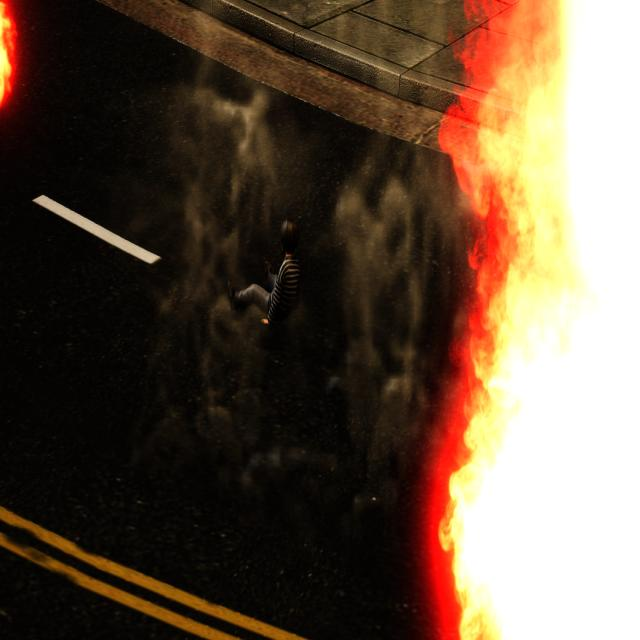Human: (224, 199, 306, 334)
